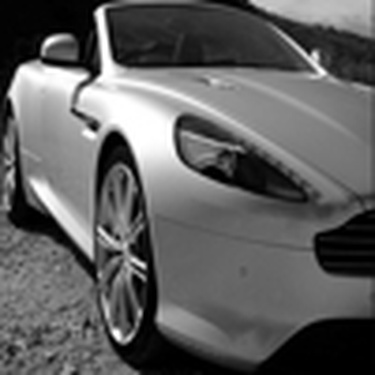car: (1, 6, 360, 345)
